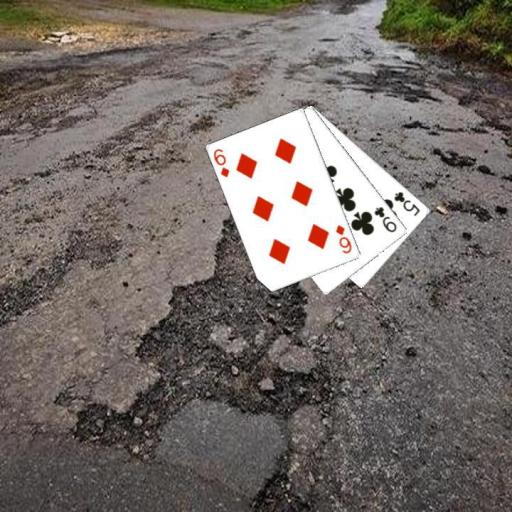5C: (391, 189, 422, 218)
6D: (211, 145, 231, 179), (333, 222, 353, 255)
9C: (371, 203, 399, 234)
